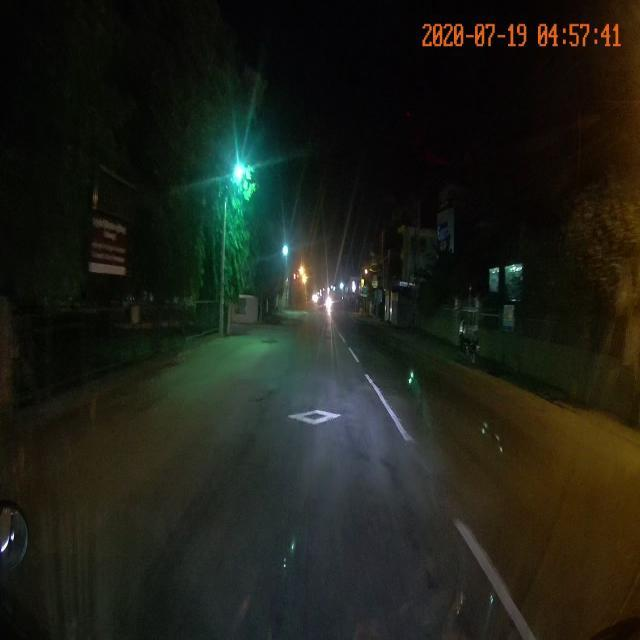diamond: (214, 380, 415, 445)
